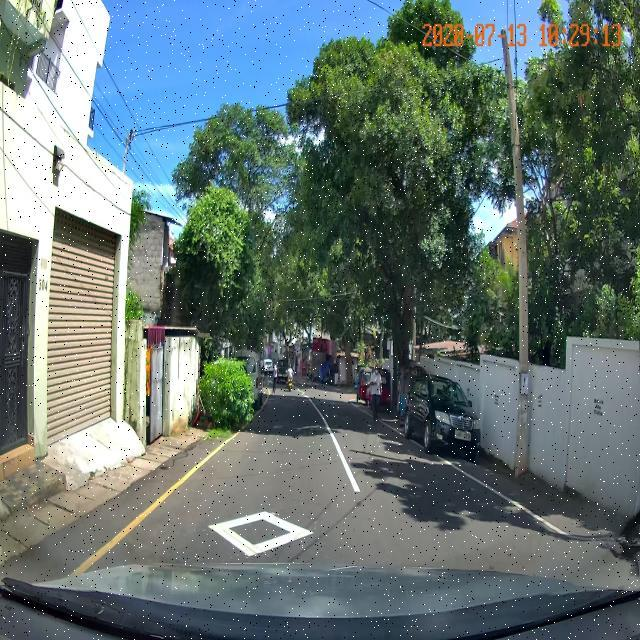diamond: (109, 494, 371, 566)
